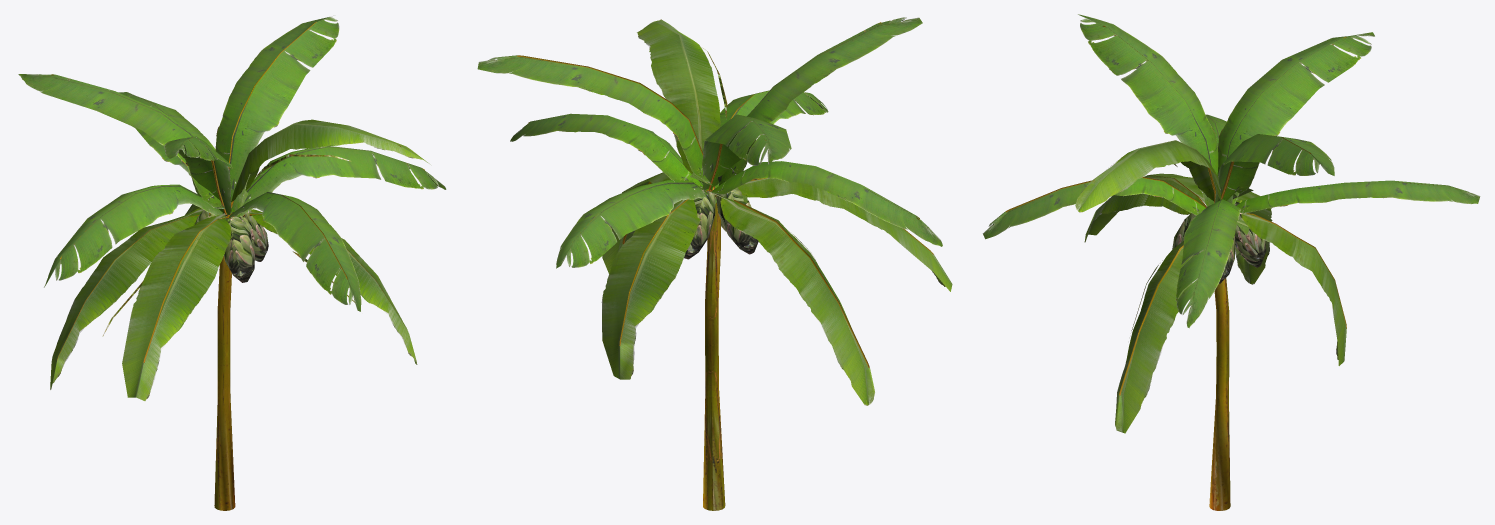
The model's file is bananatree.dae.
3 views of the same model, side by side, from view 1: azimuth 30°, elevation 25°; view 2: azimuth 150°, elevation 25°; view 3: azimuth 270°, elevation 25° (orthographic). The views are drawn at different scales.
Parts seen in each view (by area): view 1: bananatree_banantree, bananatree_trunk; view 2: bananatree_banantree, bananatree_trunk; view 3: bananatree_banantree, bananatree_trunk.
Boxes of the visible parts, x1,y1,x2,y2 form: bananatree_banantree: (18,17,446,400); bananatree_trunk: (194,210,268,510); bananatree_banantree: (477,17,952,405); bananatree_trunk: (684,187,758,510); bananatree_banantree: (982,14,1480,433); bananatree_trunk: (1172,203,1266,510).
Bounding box in the file's own units: 158 × 162 × 168.
Materials: 2 (2 with a texture image).
